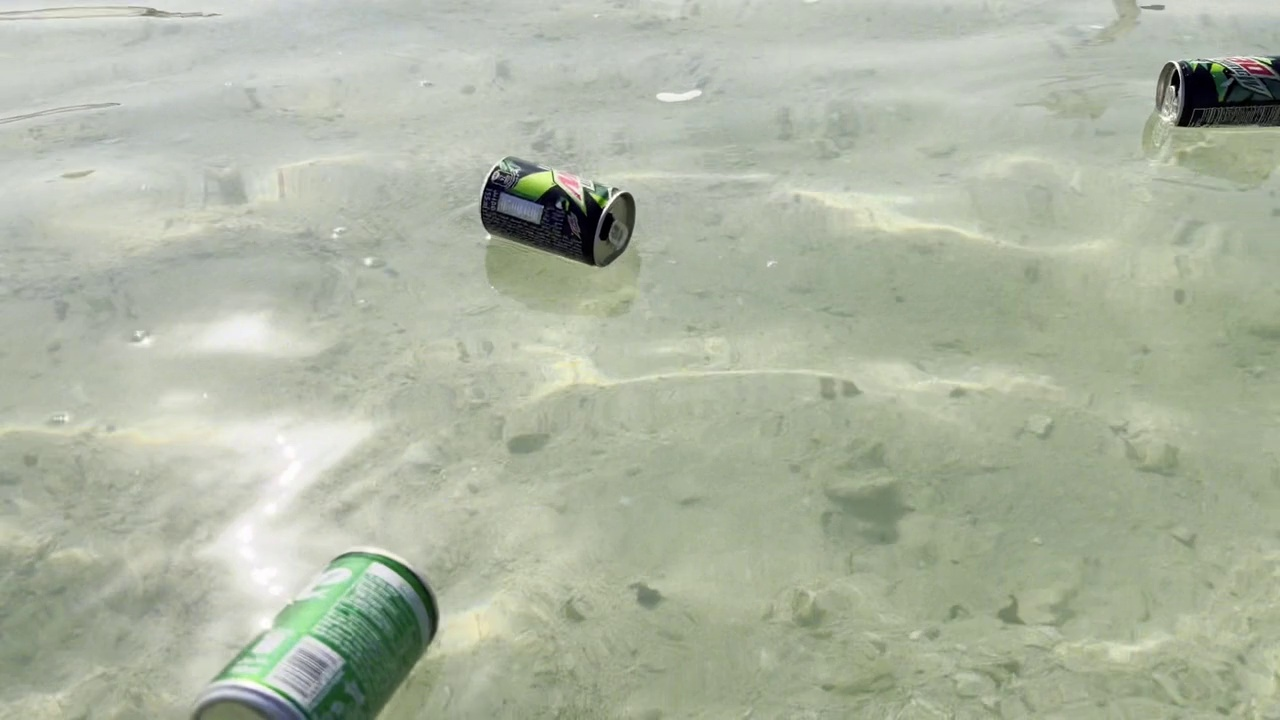debris: (173, 532, 447, 720), (472, 150, 650, 271), (1155, 50, 1228, 141)
